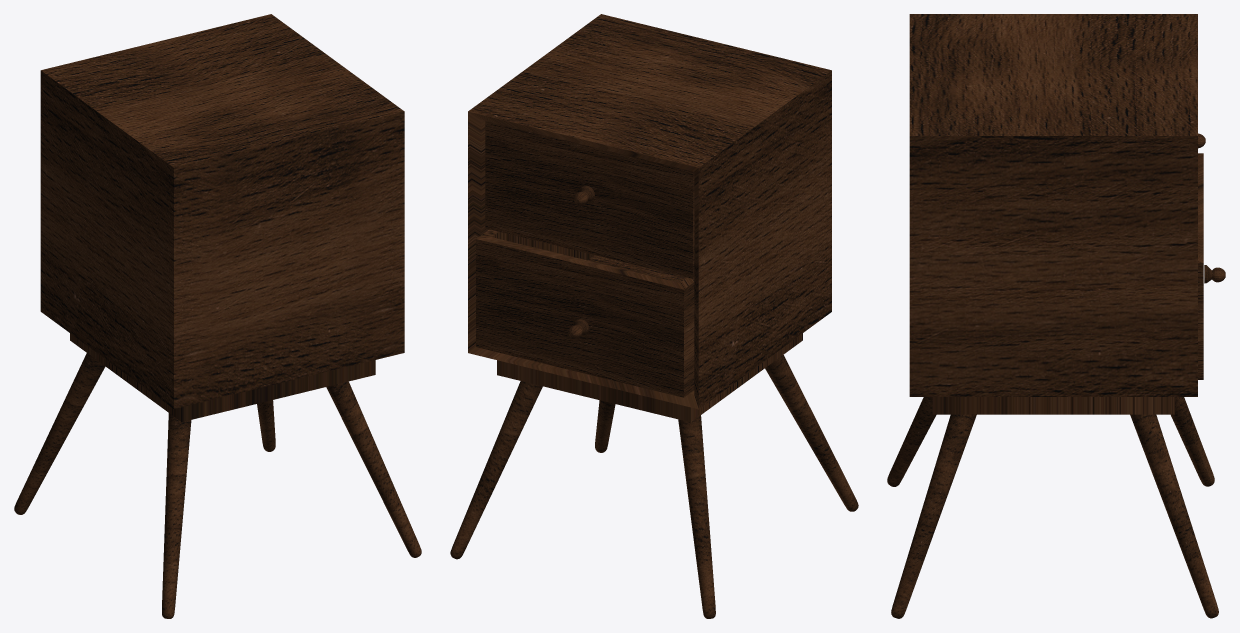
Rendered from nightstand_3.glb.
3 renders of one model, left to right at view 1: azimuth 30°, elevation 25°; view 2: azimuth 150°, elevation 25°; view 3: azimuth 270°, elevation 25°, orthographic. The views are drawn at different scales.
Visible parts, largest first — view 1: Object_2, Object_3; view 2: Object_2, Object_3; view 3: Object_2, Object_3.
Boxes of the visible parts, box(x1,y1,x2,y2) form: Object_2: box(40, 14, 404, 421); Object_3: box(14, 353, 421, 618); Object_2: box(468, 14, 831, 422); Object_3: box(450, 121, 858, 618); Object_2: box(909, 14, 1197, 414); Object_3: box(887, 133, 1225, 618).
Bounding box in the file's own units: 0.4951 × 0.7999 × 0.511.
1 material, 1 textured.
